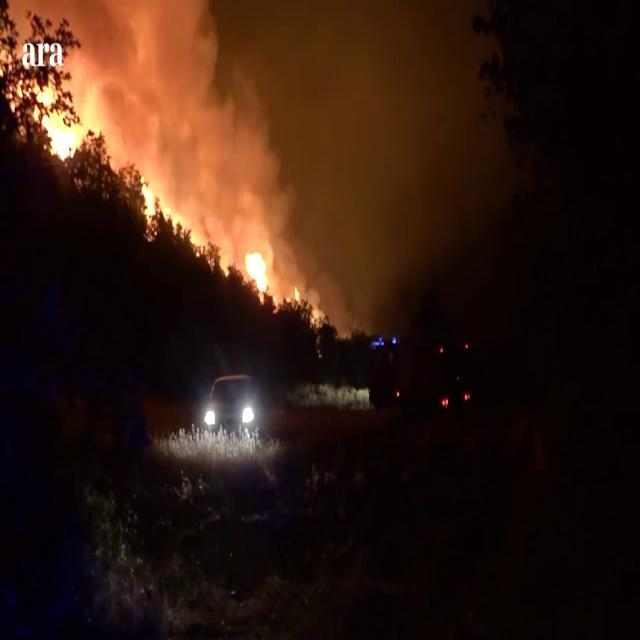Fire: (29, 54, 96, 167), (238, 232, 283, 308), (138, 162, 172, 240)
Smoke: (102, 1, 492, 298)
